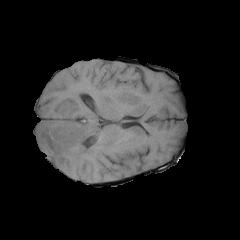glioma: (37, 92, 145, 173)
